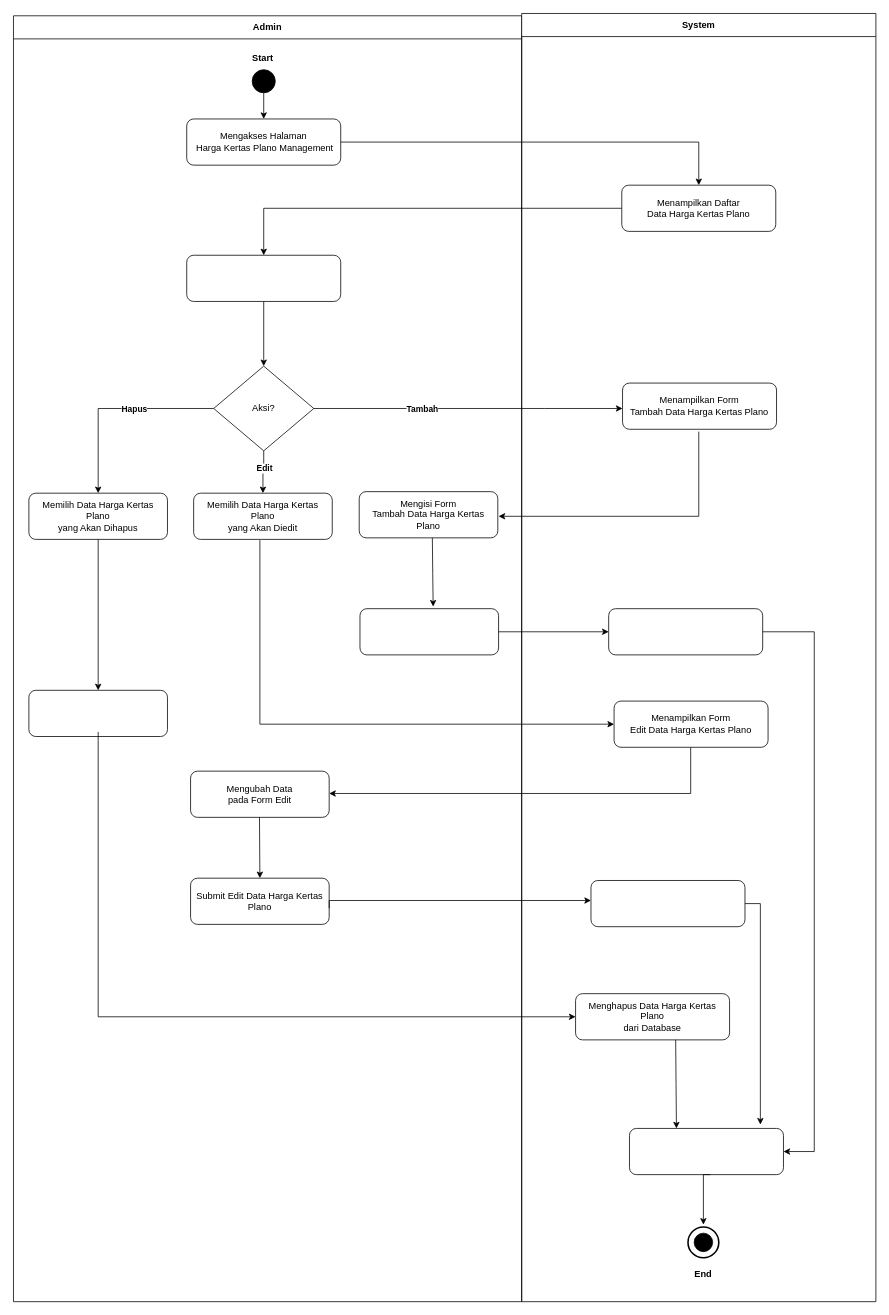
Some shapes in this 889 by 1315 pixel diagram are drawn without their labels. Each missing label, with the centre of its shape:
"Memilih Aksi" belongs at point 263,277.
"Memperbarui Data Harga Kertas Plano di Database" belongs at point 667,903.
"Menampilkan Notifikasi Berhasil" belongs at point 706,1151.
"Mengonfirmasi Penghapusan Data" belongs at point 97,713.
"Menyimpan Data Harga Kertas Plano Baru ke Database" belongs at point 685,631.
"Submit Tambah Data Harga Kertas Plano" belongs at point 429,631.
